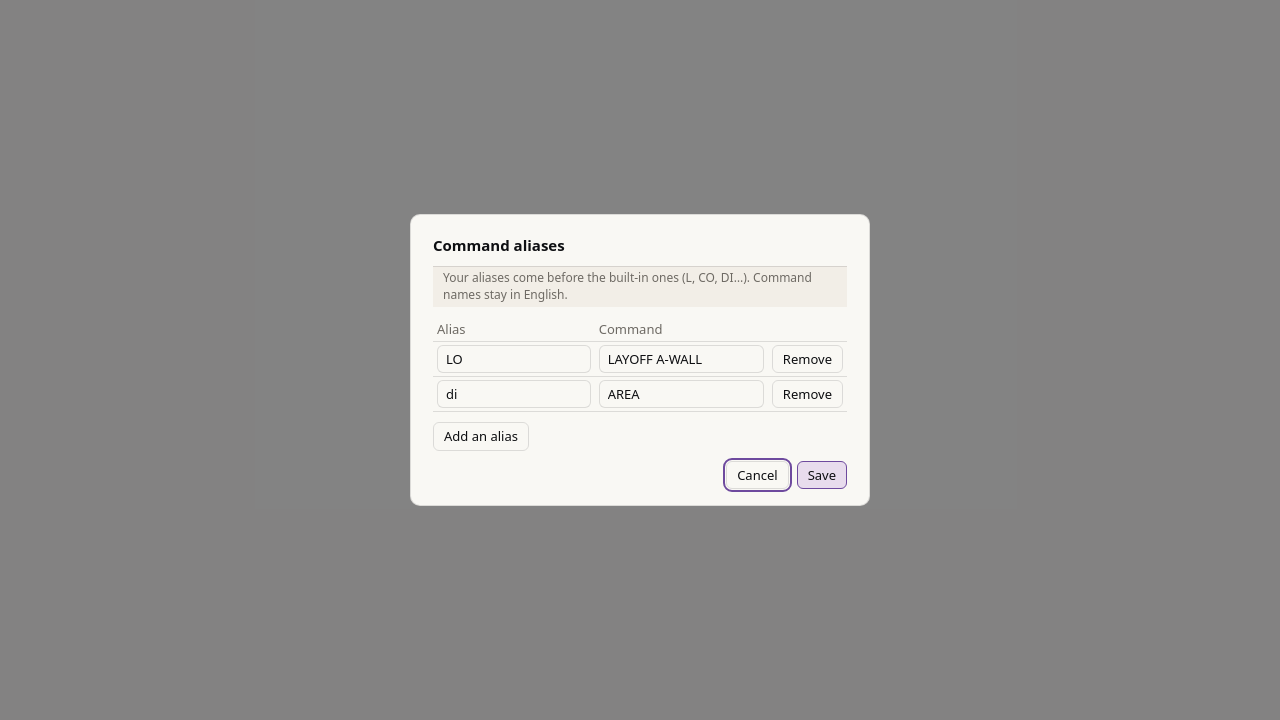
Test case: two aliases that differ only in case are refused
The image size is (1280, 720).
Check: the field named "Alias 1" is shown, box x1=437 y1=345 x2=591 y2=373
Replace the text in the field named "Alias 2" with "lo" at (514, 394), box x1=437 y1=380 x2=591 y2=408
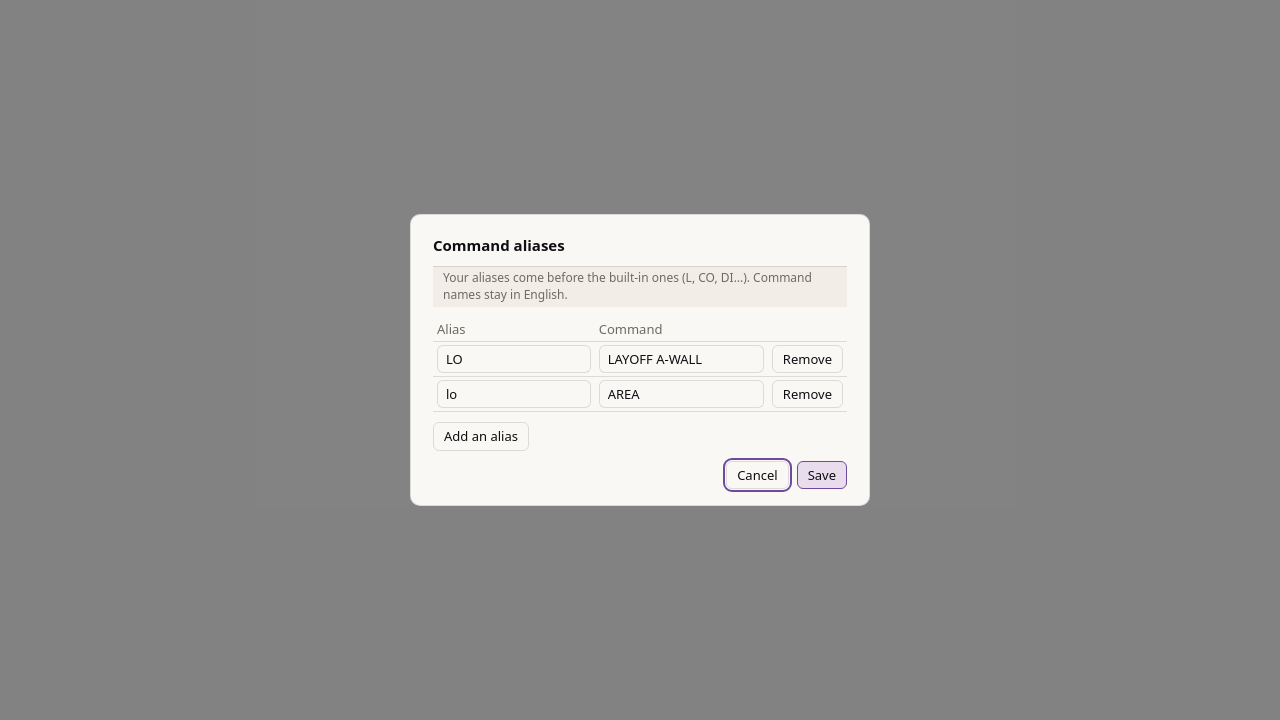
Click the button "Save" at (822, 475), box x1=797 y1=461 x2=847 y2=489
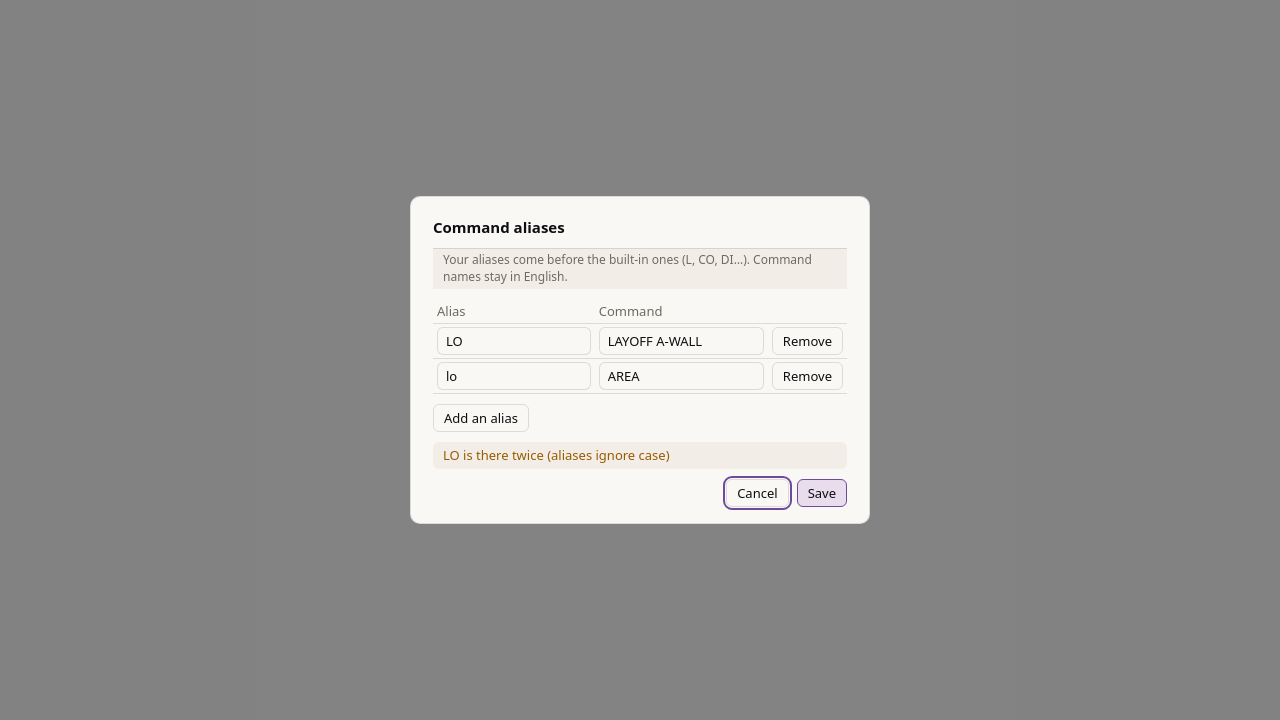
Check: the message reads "LO is there twice (aliases ignore case)", box x1=443 y1=446 x2=670 y2=464
